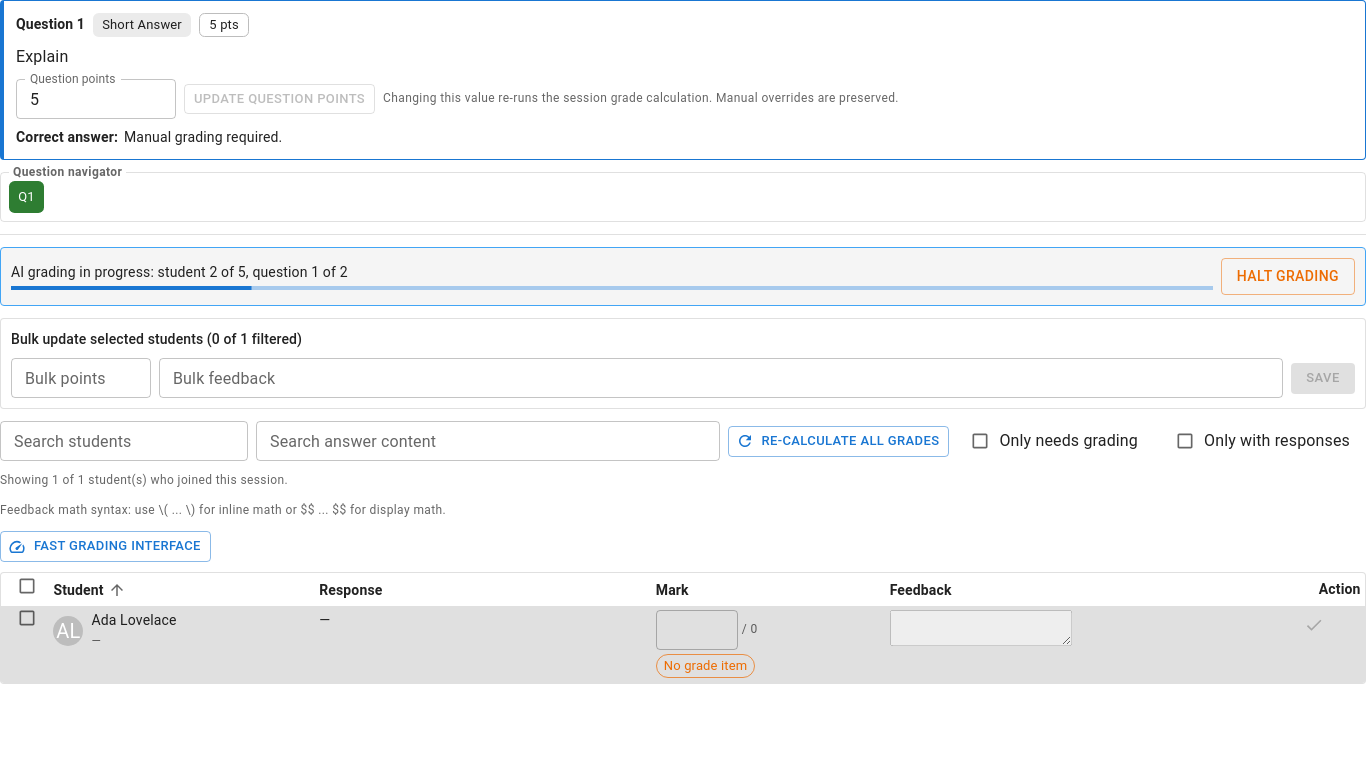
Scenario: SessionQuestionGradingPanel › halts active AI grading and immediately opens its partial report
Click the button "Halt grading" at (1288, 276), box [1221,258,1355,294]
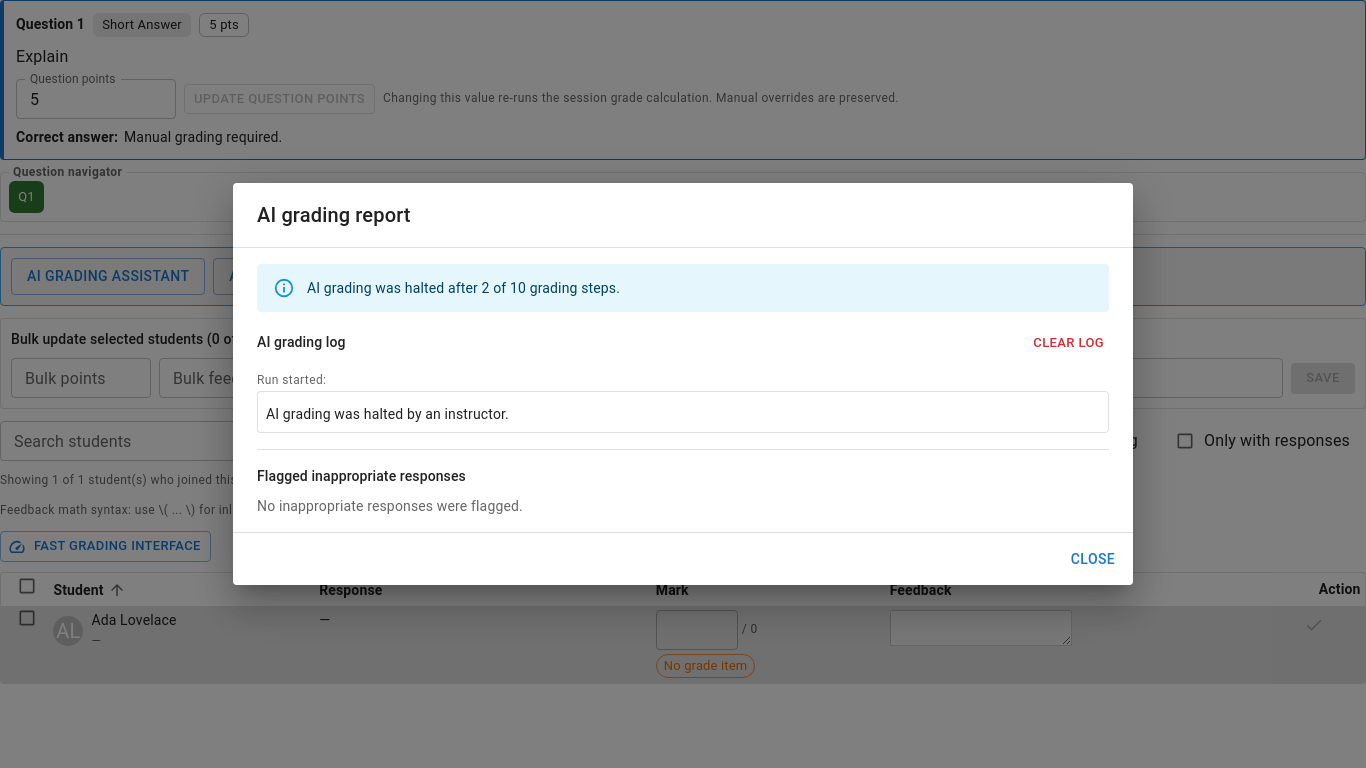
expect the text "AI grading was halted after 2 of 10 grading steps." is shown: met, box [307,280,620,296]
expect the text "AI grading was halted by an instructor." is shown: met, box [266,406,509,422]
